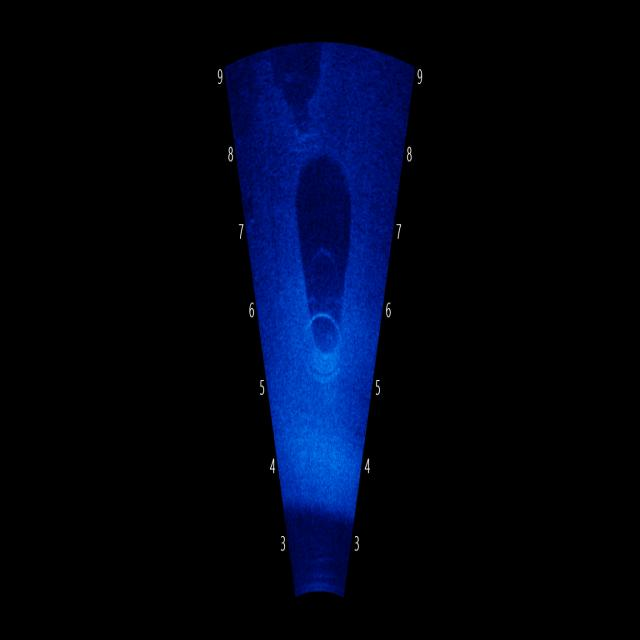circle: (296, 273, 354, 386)
